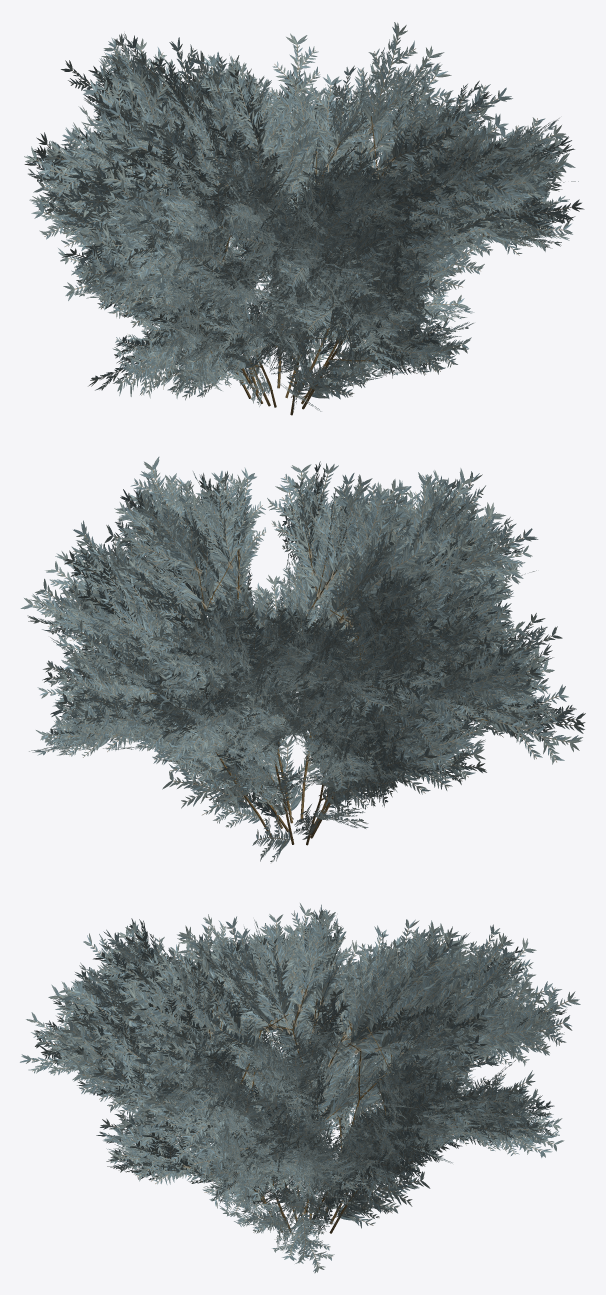
File: sagebrush_grey_v02.fbx
The picture shows the model from 3 angles, top to bottom: view 1: azimuth 30°, elevation 25°; view 2: azimuth 150°, elevation 25°; view 3: azimuth 270°, elevation 25°; orthographic projection. The views are drawn at different scales.
Visible parts, largest first — view 1: sagebrush_grey_v02; view 2: sagebrush_grey_v02; view 3: sagebrush_grey_v02.
Part boxes in pixels (<box>): sagebrush_grey_v02: <box>24,22,584,415</box>; sagebrush_grey_v02: <box>20,456,585,862</box>; sagebrush_grey_v02: <box>20,903,580,1273</box>.
Size of the model in its own units: 130 by 85 by 140.
Materials: 2 (2 with a texture image).
